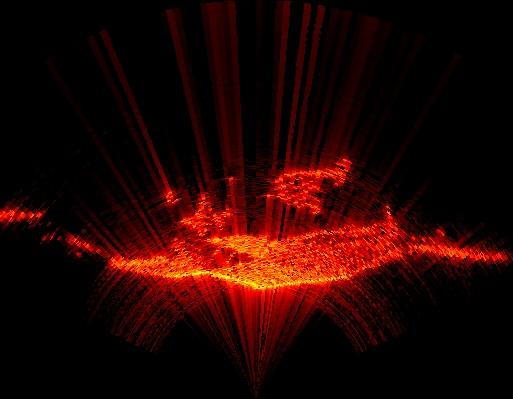shipwreck: (124, 213, 512, 288), (270, 160, 349, 213), (181, 210, 219, 238)
